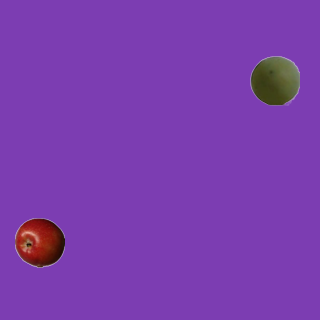Apple Braeburn: (14, 217, 64, 267)
Grape White 4: (249, 55, 299, 105)
